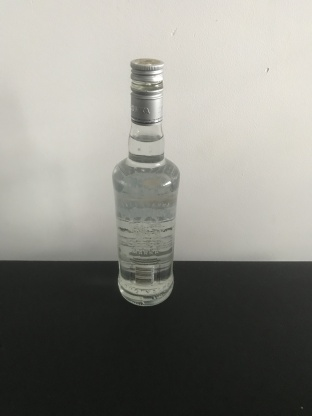nakretka: (129, 56, 164, 126)
